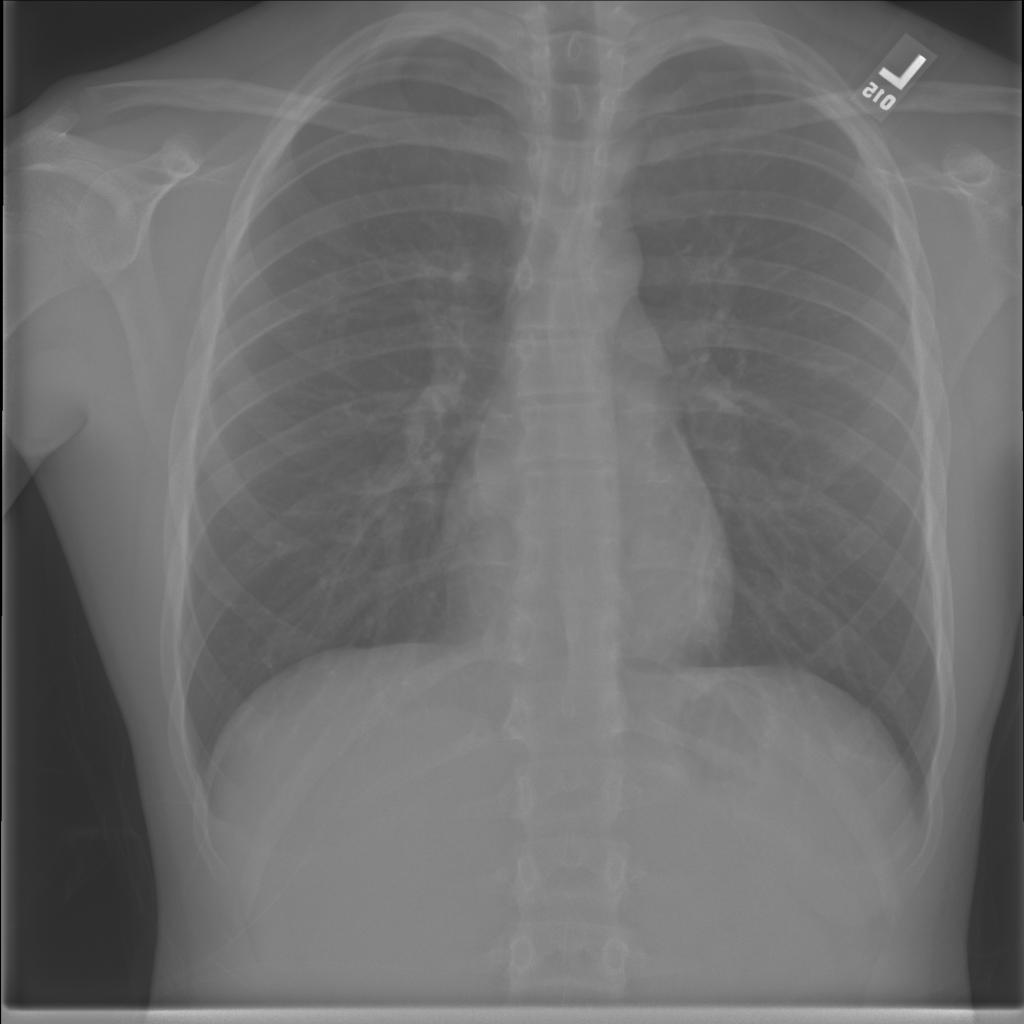Nodule: (370, 112, 413, 155), (217, 239, 249, 270)
